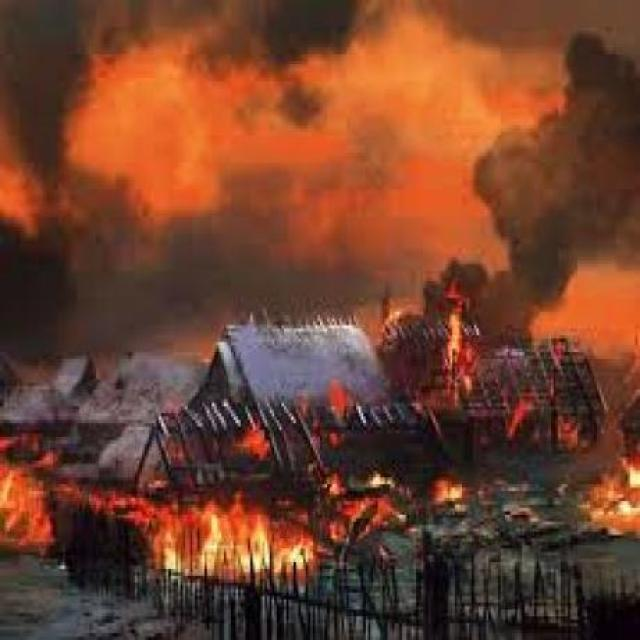Fire: (112, 492, 328, 592), (336, 474, 486, 542), (0, 437, 66, 575), (583, 452, 640, 562), (432, 299, 476, 386)
Smoke: (0, 9, 363, 326), (484, 0, 640, 333)
